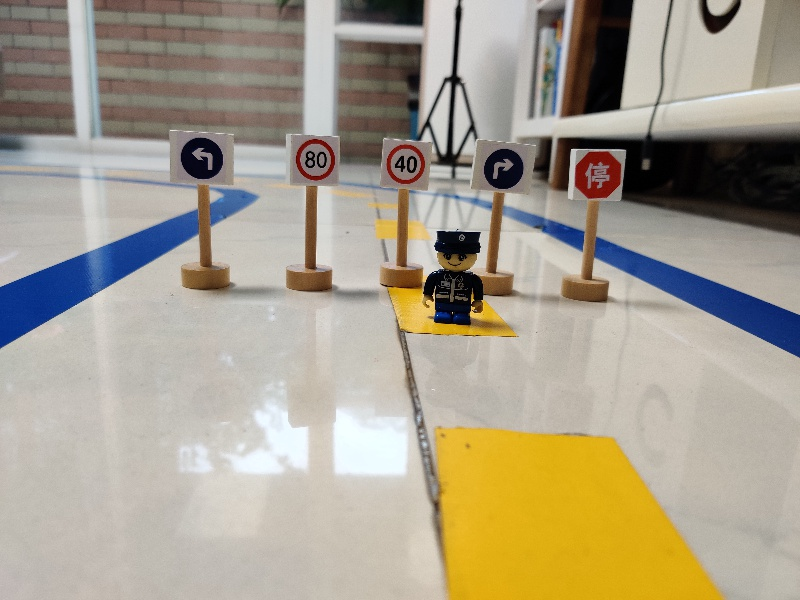limit_40: (381, 135, 432, 192)
limit_80: (284, 134, 342, 188)
person: (420, 229, 487, 326)
stop: (571, 150, 626, 202)
turn_left: (168, 129, 235, 188)
turn_right: (472, 139, 537, 194)
